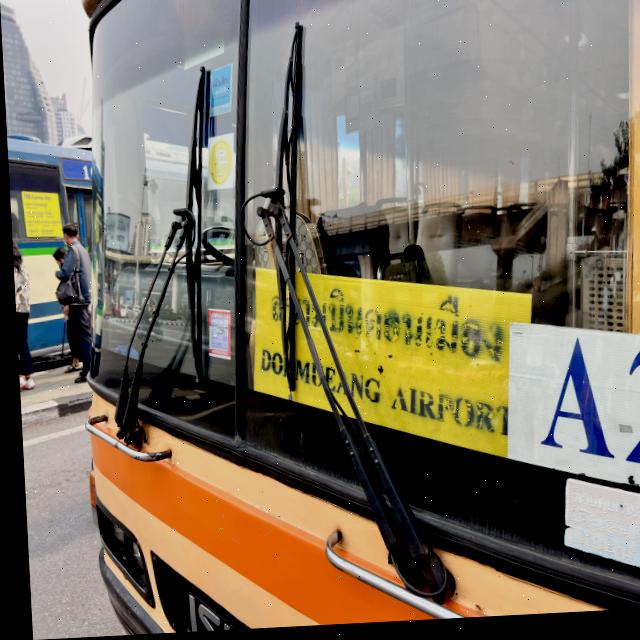Destination Sign: (248, 259, 533, 491)
